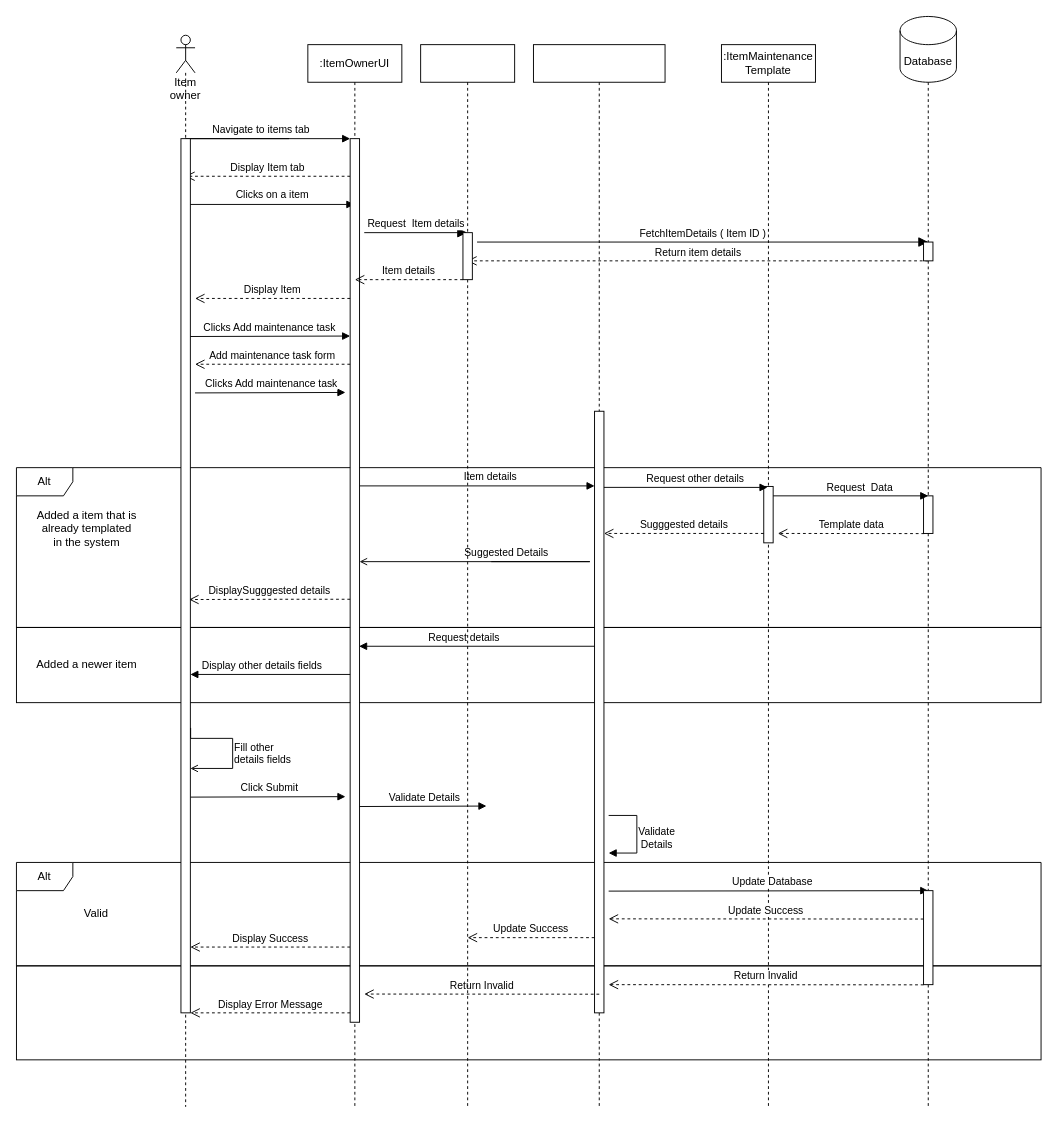
Some shapes in this 1058 by 1124 pixel diagram are drawn without their labels. Each missing label, with the box of its shape:
:IItemMaintenance: (533, 44, 665, 1107)
:Item: (420, 44, 515, 1107)
Invalid: (16, 965, 1041, 1060)
